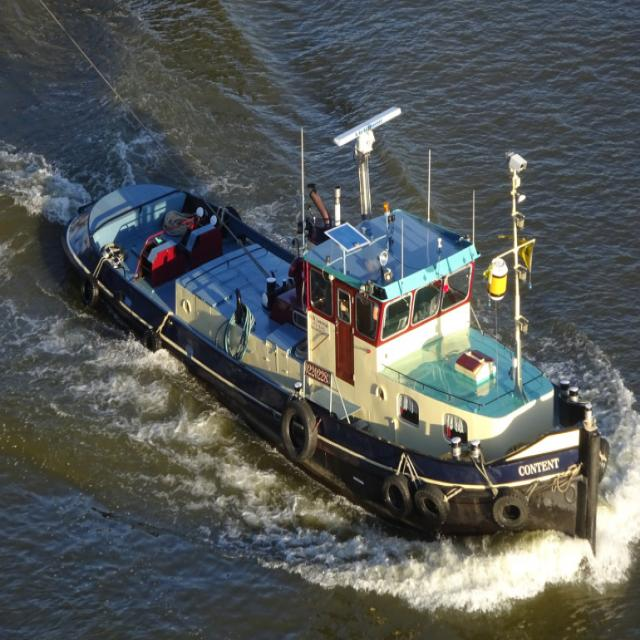tugboat: (59, 102, 609, 582)
